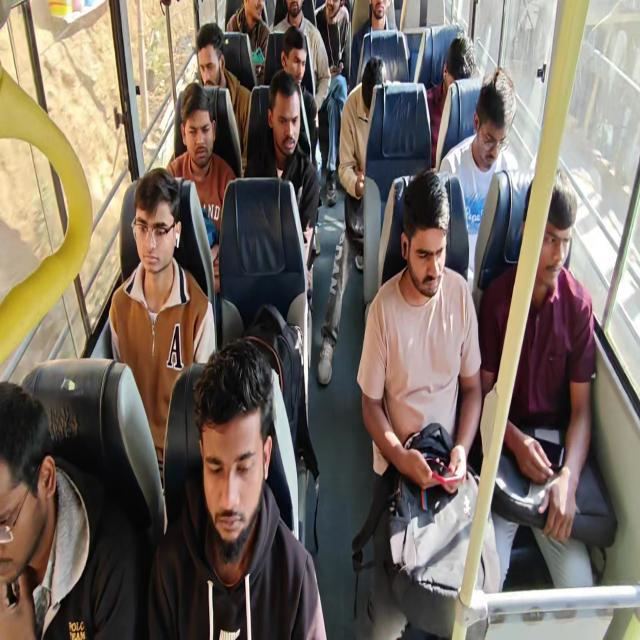person: (354, 168, 500, 638), (146, 338, 328, 638), (478, 167, 606, 591), (0, 380, 146, 639), (107, 167, 217, 490), (316, 56, 388, 386), (243, 69, 320, 302), (438, 67, 518, 276), (166, 82, 237, 297), (174, 22, 251, 170), (338, 55, 388, 269), (314, 0, 350, 205), (425, 35, 476, 168), (270, 0, 330, 112), (279, 26, 320, 176), (349, 0, 398, 89), (225, 0, 269, 85), (314, 0, 350, 88)
